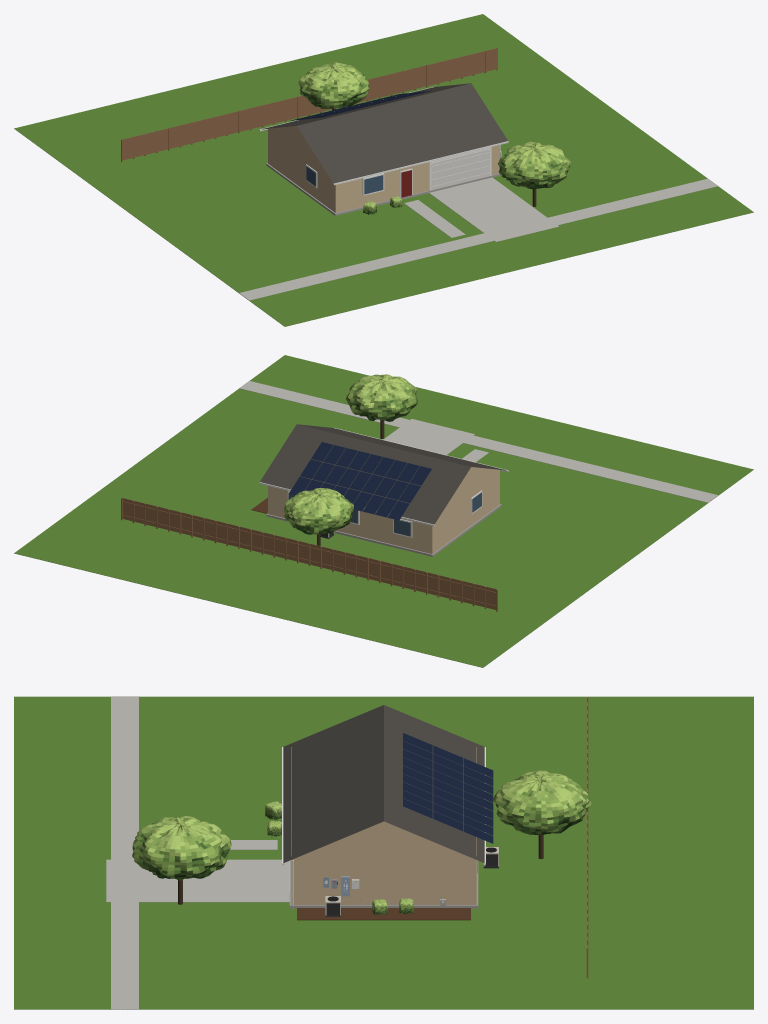
The model's file is home_05_pre_install.obj.
3 renders of one model, top to bottom at view 1: azimuth 30°, elevation 25°; view 2: azimuth 150°, elevation 25°; view 3: azimuth 270°, elevation 25°, orthographic. The views are drawn at different scales.
Parts seen in each view (by area): view 1: yard, house, tree_1, tree_2, solar_array; view 2: yard, house, solar_array, tree_1, tree_2; view 3: yard, house, solar_array, tree_1, tree_2, mulch_bed_side.
Boxes of the visible parts, x1=… form: yard: x1=14, y1=14, x2=753, y2=326; house: x1=259, y1=83, x2=508, y2=215; tree_1: x1=498, y1=141, x2=571, y2=206; tree_2: x1=298, y1=62, x2=369, y2=110; solar_array: x1=290, y1=90, x2=431, y2=120; yard: x1=14, y1=355, x2=753, y2=667; house: x1=259, y1=424, x2=508, y2=556; solar_array: x1=289, y1=442, x2=431, y2=520; tree_1: x1=345, y1=374, x2=417, y2=438; tree_2: x1=284, y1=488, x2=353, y2=545; yard: x1=14, y1=696, x2=753, y2=1009; house: x1=282, y1=705, x2=485, y2=908; solar_array: x1=403, y1=733, x2=493, y2=843; tree_1: x1=132, y1=816, x2=231, y2=904; tree_2: x1=493, y1=770, x2=591, y2=859; mulch_bed_side: x1=297, y1=908, x2=470, y2=920.
Bounding box in the file's own units: 40 × 5.38 × 40.
